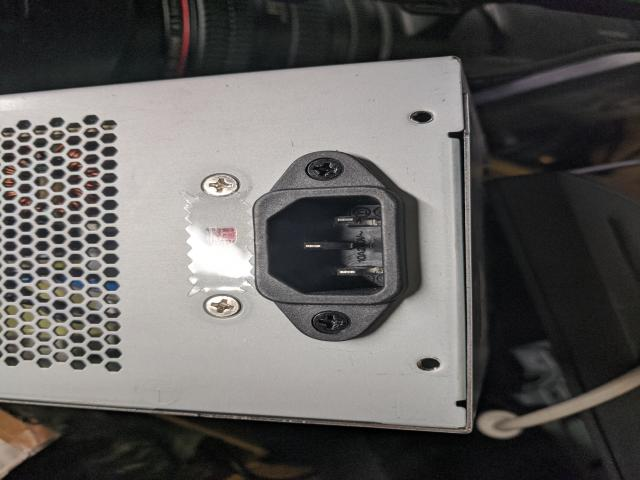CRS: (305, 156, 348, 181), (200, 173, 242, 196), (311, 312, 354, 334), (205, 295, 240, 317)
